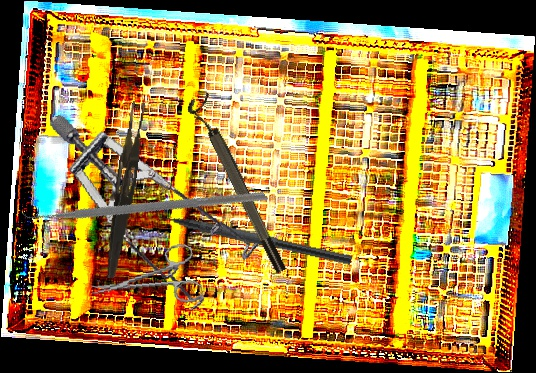Chopper: (12, 77, 269, 323), (140, 197, 356, 265)
Dressing Forceps: (104, 100, 146, 280)
Fixation Ring: (184, 92, 290, 279)
Iris Scissors: (86, 241, 204, 318)
Speculum: (46, 75, 273, 333)
